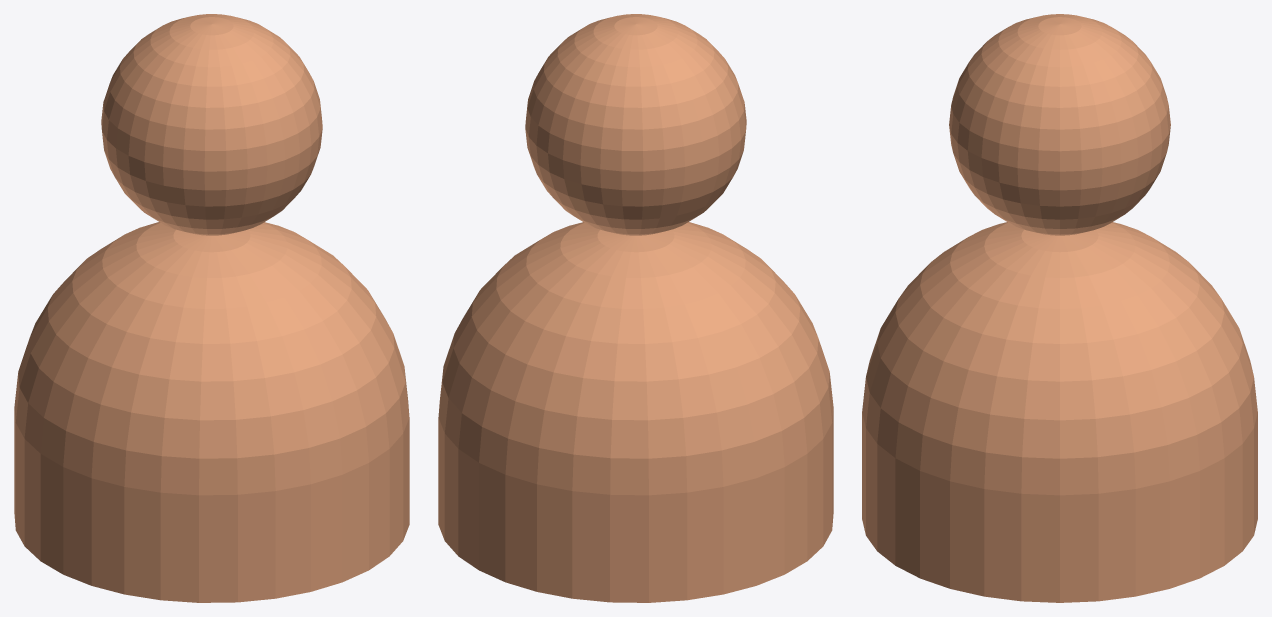
Rendered from etudiant.glb.
3 renders of one model, left to right at view 1: azimuth 30°, elevation 25°; view 2: azimuth 150°, elevation 25°; view 3: azimuth 270°, elevation 25°, orthographic.
Parts seen in each view (by area): view 1: Sphere, Cylinder, Sphere.001; view 2: Sphere, Cylinder, Sphere.001; view 3: Sphere, Cylinder, Sphere.001.
Part boxes in pixels (box(x1,y1,x2,y2)): Sphere: box(14, 222, 409, 495); Cylinder: box(14, 407, 409, 602); Sphere.001: box(101, 14, 322, 235); Sphere: box(438, 222, 833, 495); Cylinder: box(438, 407, 833, 602); Sphere.001: box(525, 14, 746, 235); Sphere: box(862, 222, 1257, 495); Cylinder: box(862, 412, 1257, 602); Sphere.001: box(949, 14, 1170, 235).
Size of the model in its own units: 2 by 2.76 by 2.
